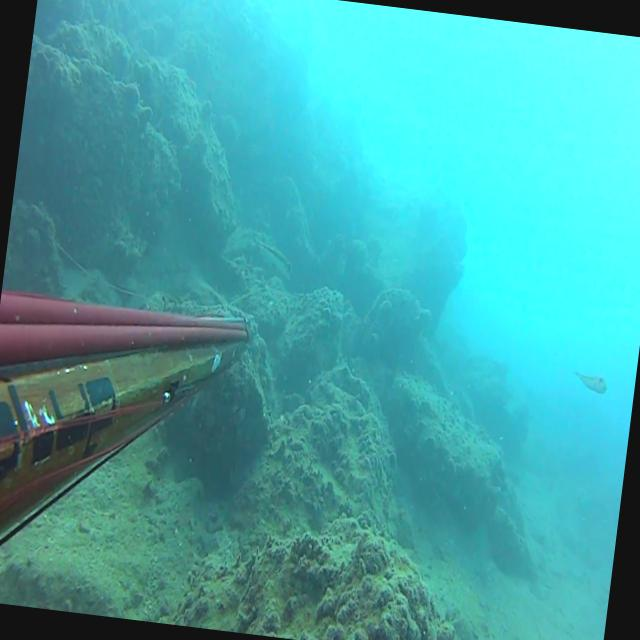Balon Baligi: (247, 237, 294, 280), (572, 370, 608, 394)
